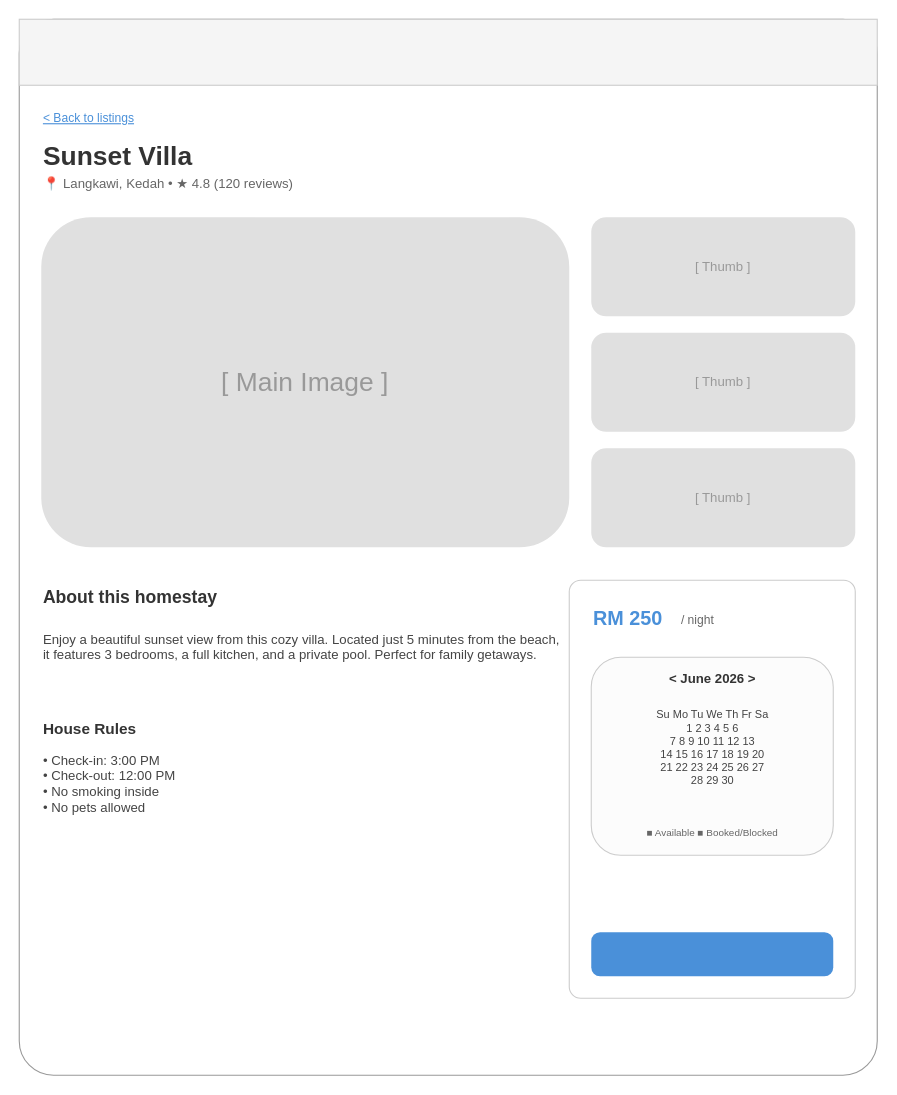
This 897x1095 diagram has some shape labels left out. The centre of each missing label's shape, as x and y in pixels:
HomeLodge: point 447,51
Select Dates: point 712,954
